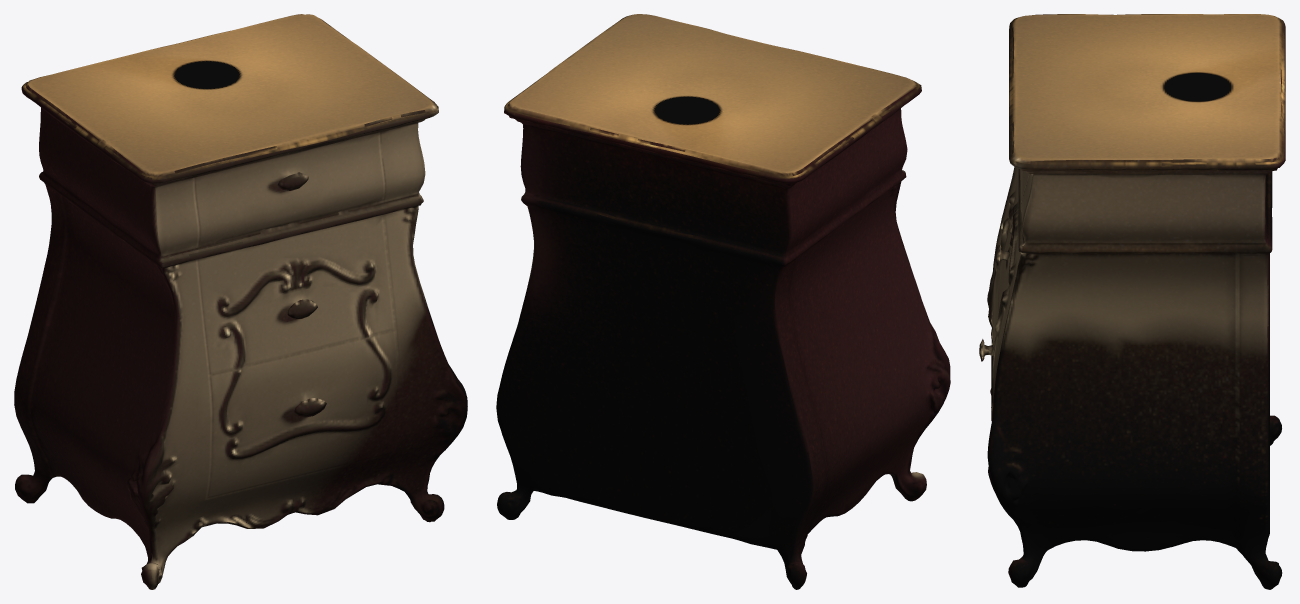
Rendered from nighttable1.obj.
The picture shows the model from 3 angles, left to right: view 1: azimuth 30°, elevation 25°; view 2: azimuth 150°, elevation 25°; view 3: azimuth 270°, elevation 25°; orthographic projection. The views are drawn at different scales.
Visible parts, largest first — view 1: nightTable1Baked BedroomBakedTriExport; view 2: nightTable1Baked BedroomBakedTriExport; view 3: nightTable1Baked BedroomBakedTriExport.
Part boxes in pixels (x1,y1,x2,y2): nightTable1Baked BedroomBakedTriExport: (14, 14, 467, 589); nightTable1Baked BedroomBakedTriExport: (496, 14, 950, 589); nightTable1Baked BedroomBakedTriExport: (979, 14, 1285, 589).
Size of the model in its own units: 0.7949 by 0.9629 by 0.6211.
